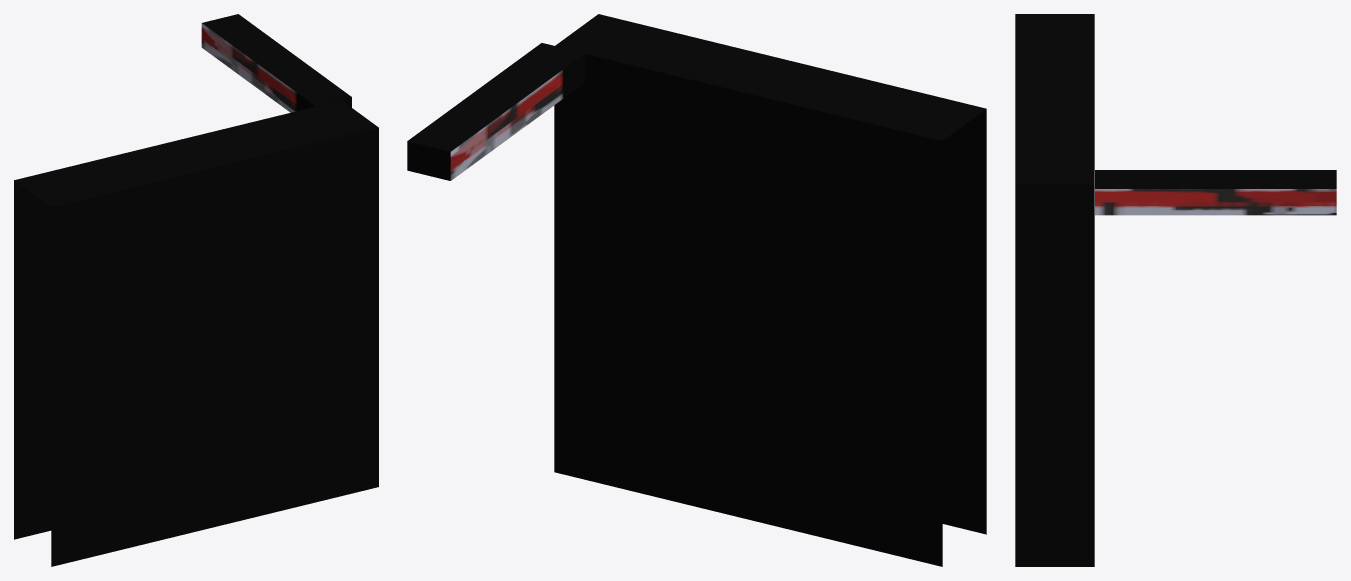
Rendered from section-2.obj.
3 views of the same model, side by side, from view 1: azimuth 30°, elevation 25°; view 2: azimuth 150°, elevation 25°; view 3: azimuth 270°, elevation 25° (orthographic). The views are drawn at different scales.
Size of the model in its own units: 0.8897 by 0.9052 by 0.6881.
